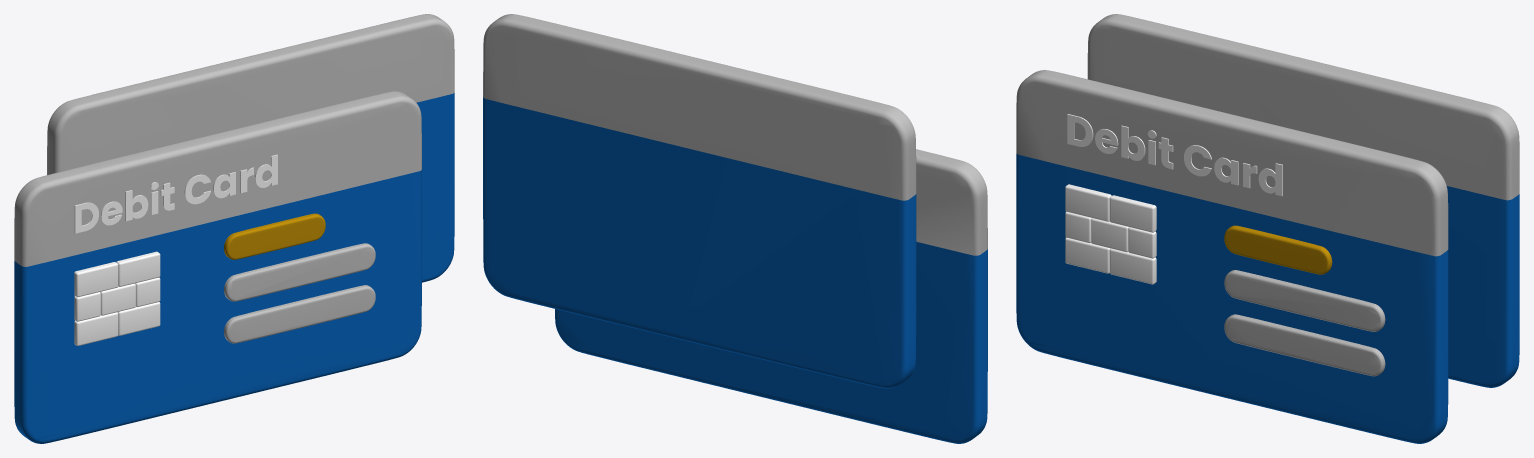
File: card.glb
3 views of the same model, side by side, from view 1: azimuth 30°, elevation 25°; view 2: azimuth 150°, elevation 25°; view 3: azimuth 330°, elevation 25° (orthographic). The views are drawn at different scales.
Visible parts, largest first — view 1: Plane, Cube.003, Cube; view 2: Plane; view 3: Plane, Cube.003, Cube.
Part boxes in pixels (x1,y1,x2,y2): Plane: (14,14,454,443); Cube.003: (74,154,277,345); Cube: (224,213,325,259); Plane: (483,14,987,443); Plane: (1016,14,1519,443); Cube.003: (1065,114,1282,284); Cube: (1224,225,1332,274).
Size of the model in its own units: 0.8999 by 0.6 by 0.11.
